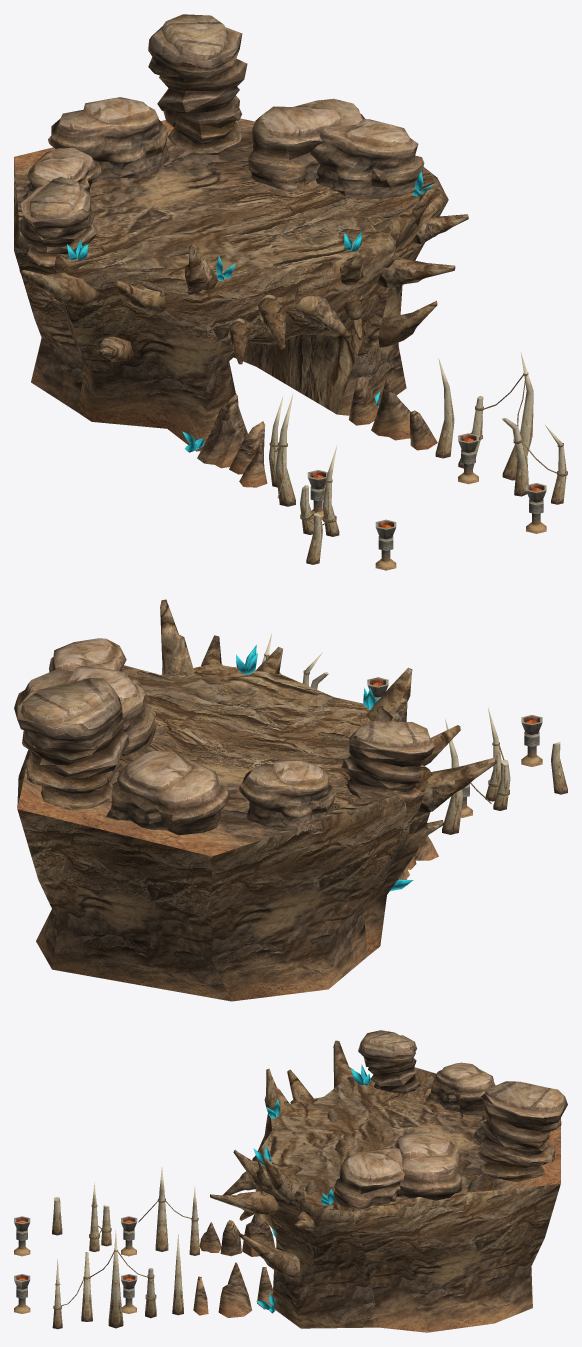
Rendered from SC_tamalagebi_09.FBX.
3 renders of one model, top to bottom at view 1: azimuth 30°, elevation 25°; view 2: azimuth 150°, elevation 25°; view 3: azimuth 270°, elevation 25°, orthographic. The views are drawn at different scales.
Visible parts, largest first — view 1: SC_tamalagebi_09; view 2: SC_tamalagebi_09; view 3: SC_tamalagebi_09.
Boxes of the visible parts, x1,y1,x2,y2 form: SC_tamalagebi_09: (14,14,567,570); SC_tamalagebi_09: (14,599,567,1001); SC_tamalagebi_09: (14,1030,567,1332).
Size of the model in its own units: 1516 by 927 by 2163.
